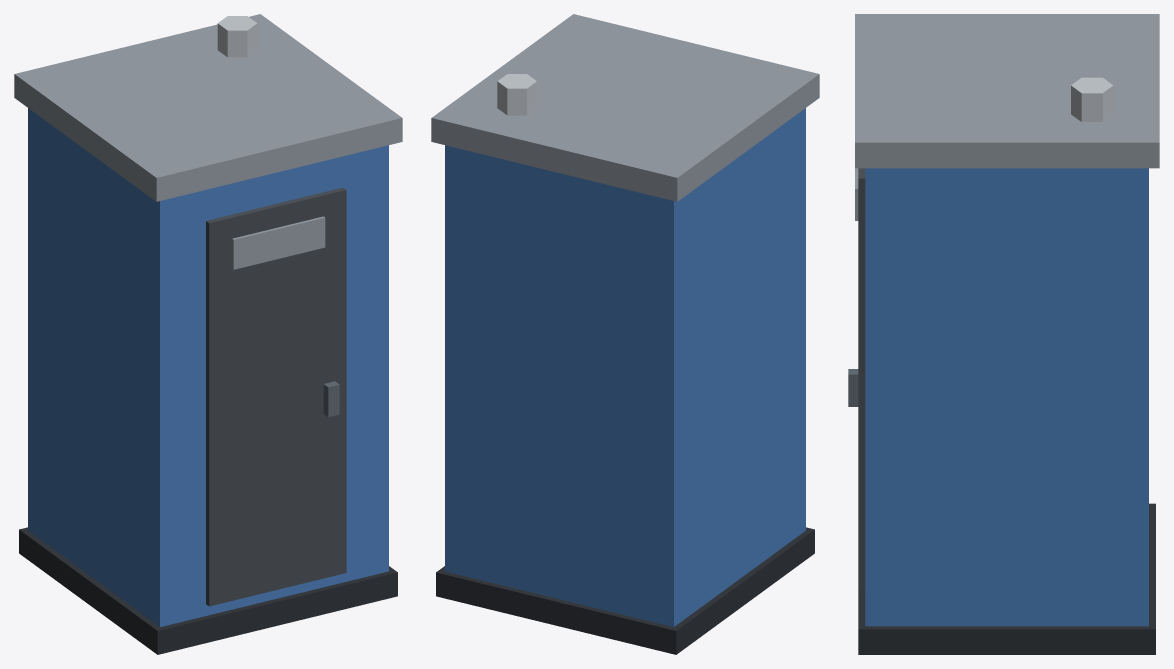
File: prop_portable_toilet.fbx
3 renders of one model, left to right at view 1: azimuth 30°, elevation 25°; view 2: azimuth 150°, elevation 25°; view 3: azimuth 270°, elevation 25°, orthographic. The views are drawn at different scales.
Parts seen in each view (by area): view 1: prop_portable_toilet; view 2: prop_portable_toilet; view 3: prop_portable_toilet.
Boxes of the visible parts, x1,y1,x2,y2 form: prop_portable_toilet: (14, 14, 402, 654); prop_portable_toilet: (431, 14, 819, 654); prop_portable_toilet: (848, 14, 1159, 654).
Bounding box in the file's own units: 430 × 845 × 439.
